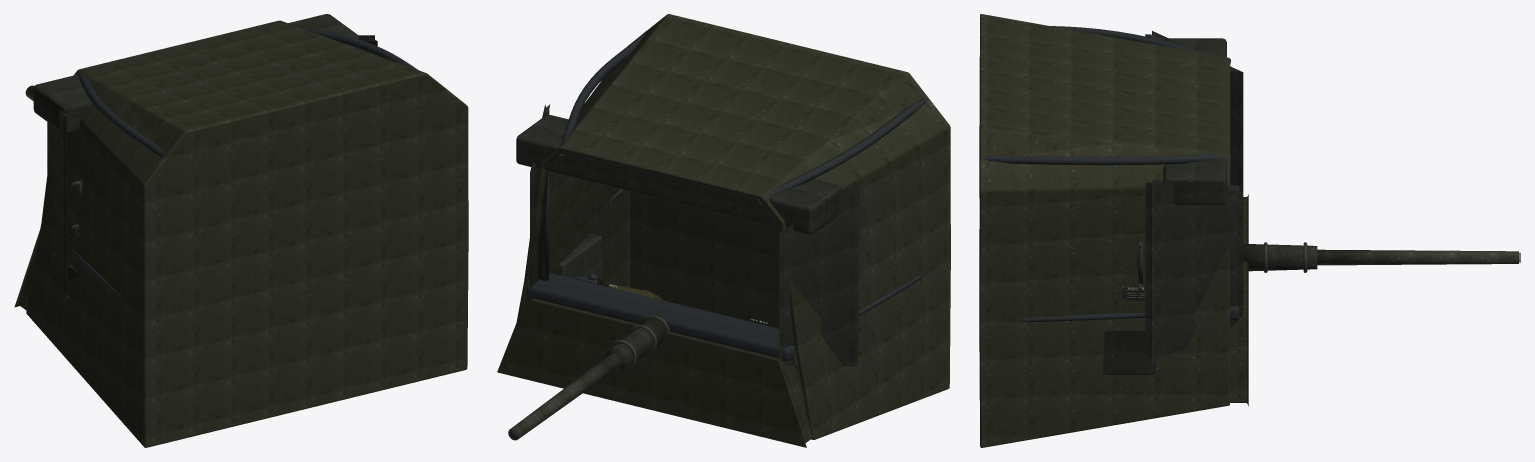
Rendered from tank_view.glb.
The picture shows the model from 3 angles, left to right: view 1: azimuth 30°, elevation 25°; view 2: azimuth 150°, elevation 25°; view 3: azimuth 270°, elevation 25°; orthographic projection. The views are drawn at different scales.
Visible parts, largest first — view 1: Olive cabin interior panels, Weathered painted cockpit structure, Matte rubber cockpit trim; view 2: Olive cabin interior panels, Weathered painted cockpit structure, Matte rubber cockpit trim, RECOIL_BARREL, Worn satin alloy hardware; view 3: Olive cabin interior panels, Weathered painted cockpit structure, Matte rubber cockpit trim, RECOIL_BARREL, Worn satin alloy hardware.
Part boxes in pixels (<box>): Olive cabin interior panels: <box>14,20,468,447</box>; Weathered painted cockpit structure: <box>33,14,377,297</box>; Matte rubber cockpit trim: <box>68,24,417,306</box>; Olive cabin interior panels: <box>497,14,950,447</box>; Weathered painted cockpit structure: <box>516,104,861,374</box>; Matte rubber cockpit trim: <box>508,30,932,439</box>; RECOIL_BARREL: <box>508,351,623,440</box>; Worn satin alloy hardware: <box>574,234,860,369</box>; Olive cabin interior panels: <box>979,14,1248,447</box>; Weathered painted cockpit structure: <box>1103,31,1317,374</box>; Matte rubber cockpit trim: <box>985,26,1520,322</box>; RECOIL_BARREL: <box>1317,249,1518,265</box>; Worn satin alloy hardware: <box>1118,240,1307,331</box>.
Size of the model in its own units: 2.13 by 1.92 by 3.14.
14 materials, 9 textured.
